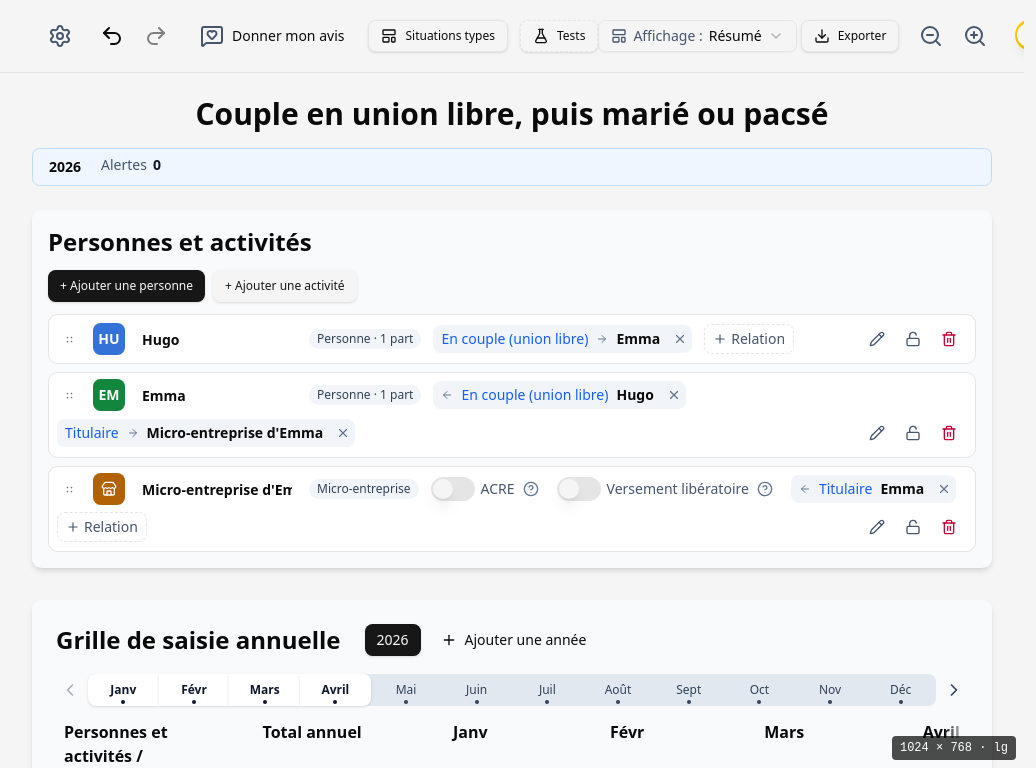
Test: App : adresse d'une situation type (#situation=…) › sur une simulation vide, charge la situation directement, retire le fragment, et s'annule en une étape
The image size is (1036, 768).
expect the heading "Couple en union libre, puis marié ou pacsé" is shown: met, box [196,93,828,134]
expect the element "Que voulez-vous savoir ?" is not shown: met
Click the button named "Annuler" at (112, 36), box [92,16,132,56]
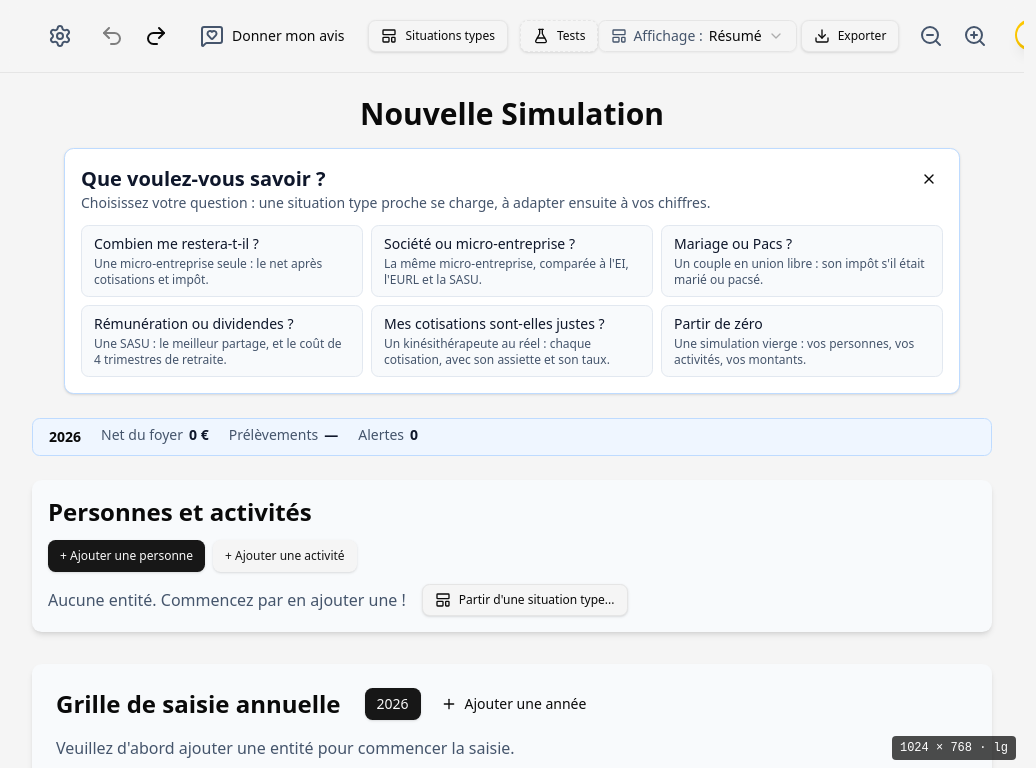
expect the heading "Nouvelle Simulation" is shown: met, box [360,93,664,134]
expect the button named "Annuler" is disabled: met, box [92,16,132,56]
